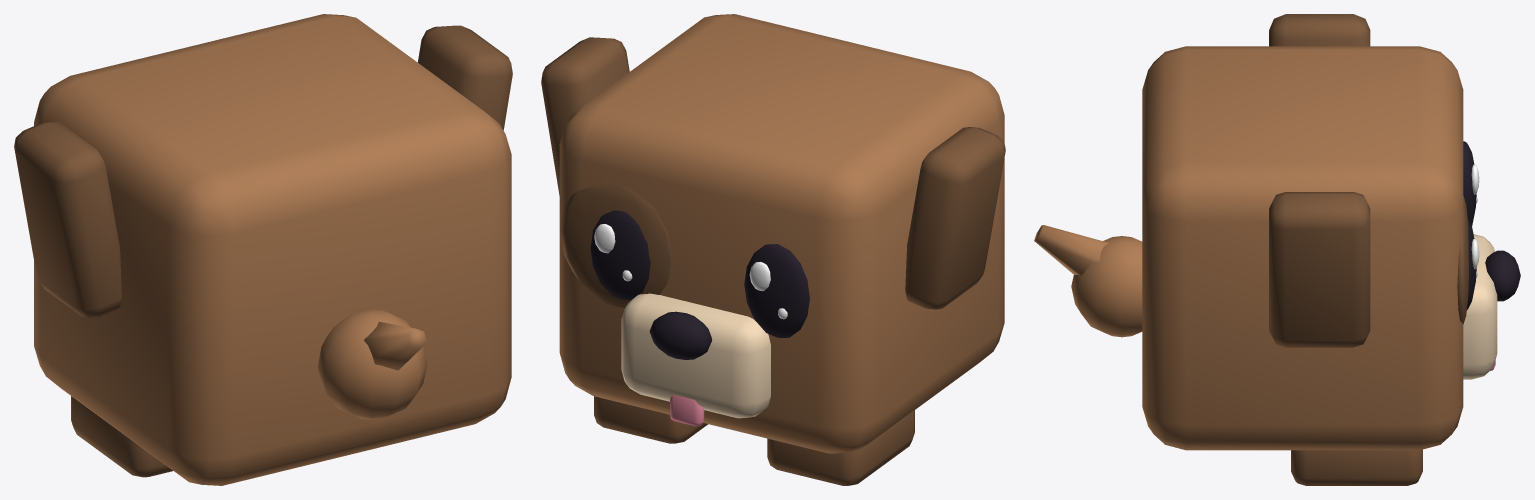
The model's file is pet_dog.fbx.
The picture shows the model from 3 angles, left to right: view 1: azimuth 30°, elevation 25°; view 2: azimuth 150°, elevation 25°; view 3: azimuth 270°, elevation 25°; orthographic projection. The views are drawn at different scales.
Parts seen in each view (by area): view 1: pet_dog; view 2: pet_dog; view 3: pet_dog.
Part boxes in pixels (left/top/right/bottom): pet_dog: left=14, top=14, right=512, bottom=485; pet_dog: left=541, top=14, right=1005, bottom=485; pet_dog: left=1034, top=14, right=1520, bottom=485.
Bounding box in the file's own units: 2.85 × 2.1 × 2.88.
Materials: 1 (1 with a texture image).
